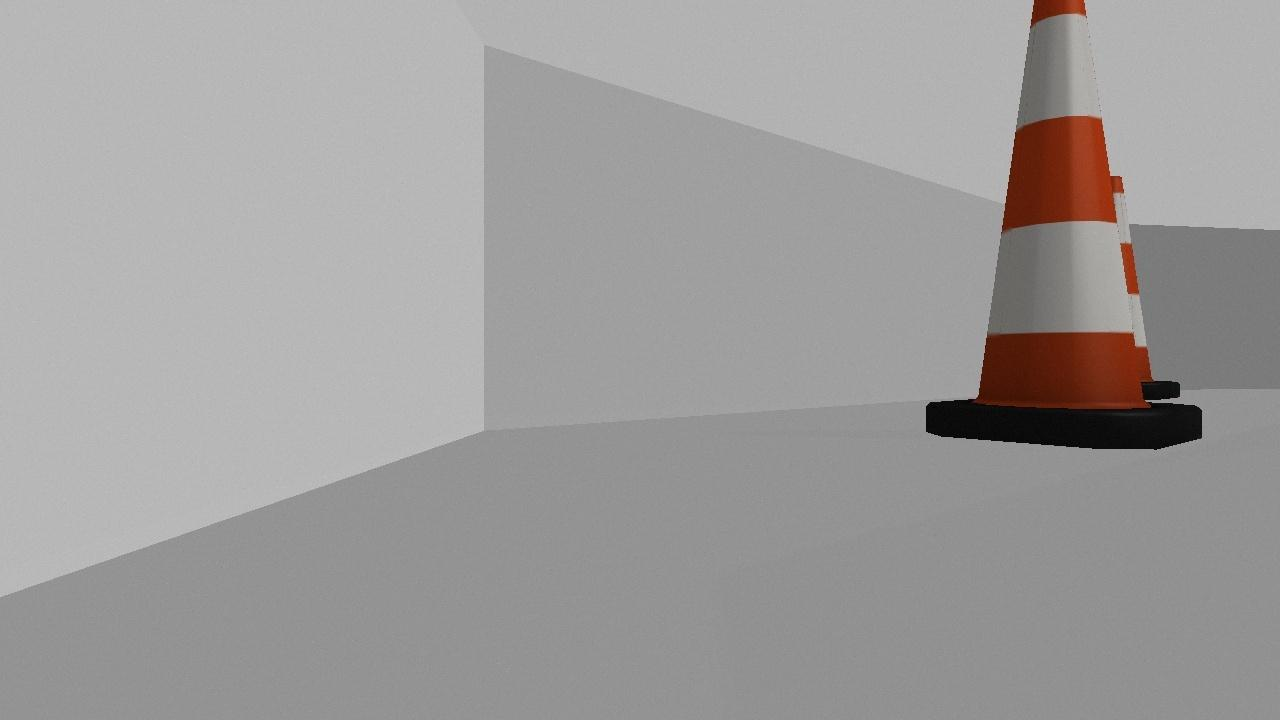cone_barrel: (924, 1, 1201, 450), (1095, 169, 1180, 400)
